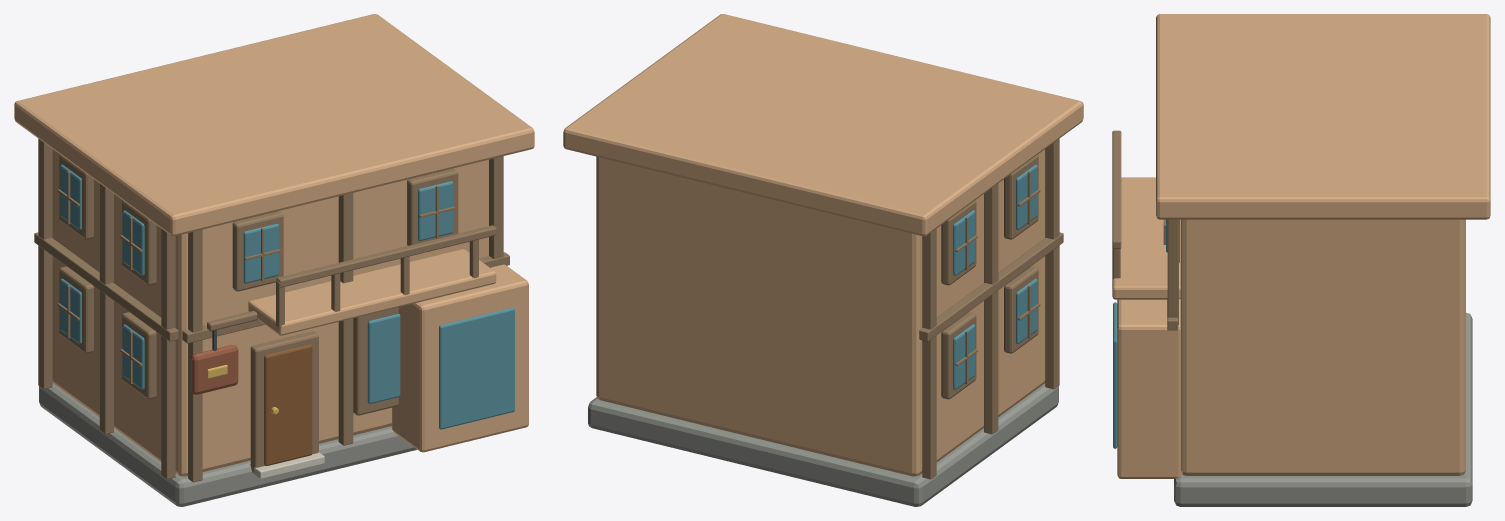
File: arid-merchant-1.glb
3 views of the same model, side by side, from view 1: azimuth 30°, elevation 25°; view 2: azimuth 150°, elevation 25°; view 3: azimuth 270°, elevation 25° (orthographic). The views are drawn at different scales.
Parts seen in each view (by area): view 1: Adobe cream, Palm beams, Blue glass, Foundation stone, Adobe wood, Door oak, Painted sign, Cut limestone; view 2: Adobe cream, Palm beams, Foundation stone, Blue glass; view 3: Adobe cream, Foundation stone, Adobe wood, Palm beams, Blue glass.
Boxes of the visible parts, box(x1,y1,x2,y2) form: Adobe cream: box(14, 14, 534, 476); Palm beams: box(34, 139, 509, 482); Blue glass: box(60, 164, 514, 429); Foundation stone: box(39, 383, 417, 506); Adobe wood: box(248, 249, 496, 335); Door oak: box(264, 344, 312, 465); Painted sign: box(191, 345, 238, 394); Cut limestone: box(249, 452, 324, 478); Adobe cream: box(563, 14, 1083, 476); Palm beams: box(919, 139, 1063, 479); Foundation stone: box(588, 383, 1058, 506); Blue glass: box(953, 164, 1037, 389); Adobe cream: box(1117, 14, 1490, 478); Foundation stone: box(1174, 312, 1472, 506); Adobe wood: box(1112, 177, 1180, 299); Palm beams: box(1112, 130, 1179, 330); Blue glass: box(1113, 219, 1167, 448).
Size of the model in its own units: 3.94 by 3.14 by 3.38.
